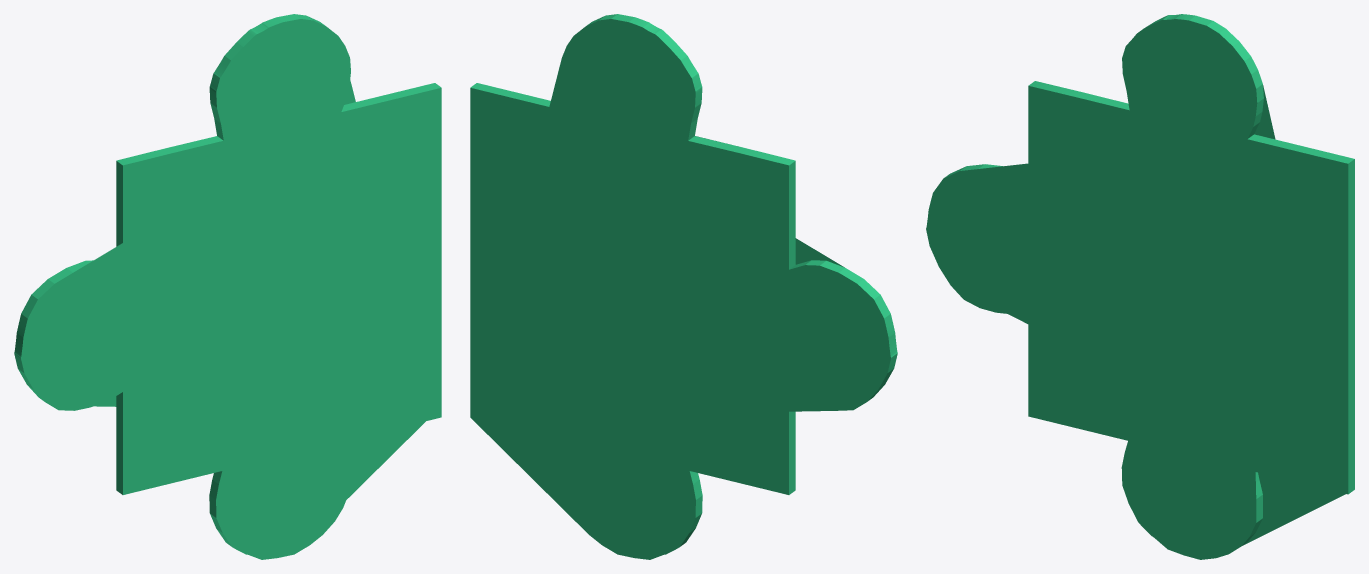
File: SidePiece3.obj
The picture shows the model from 3 angles, left to right: view 1: azimuth 30°, elevation 25°; view 2: azimuth 150°, elevation 25°; view 3: azimuth 330°, elevation 25°; orthographic projection.
Visible parts, largest first — view 1: Cap_1, Extrude, Cap_2; view 2: Cap_2, Extrude, Cap_1; view 3: Cap_1, Extrude, Cap_2.
Boxes of the visible parts, x1,y1,x2,y2 form: Cap_1: (21,19,441,559); Extrude: (14,14,441,546); Cap_2: (94,80,425,499); Cap_2: (470,19,890,559); Extrude: (470,14,897,546); Cap_1: (697,136,844,267); Cap_1: (926,19,1348,559); Extrude: (944,14,1354,545); Cap_2: (1008,85,1345,545).
Bounding box in the file's own units: 0.6978 × 0.8478 × 0.0192.
